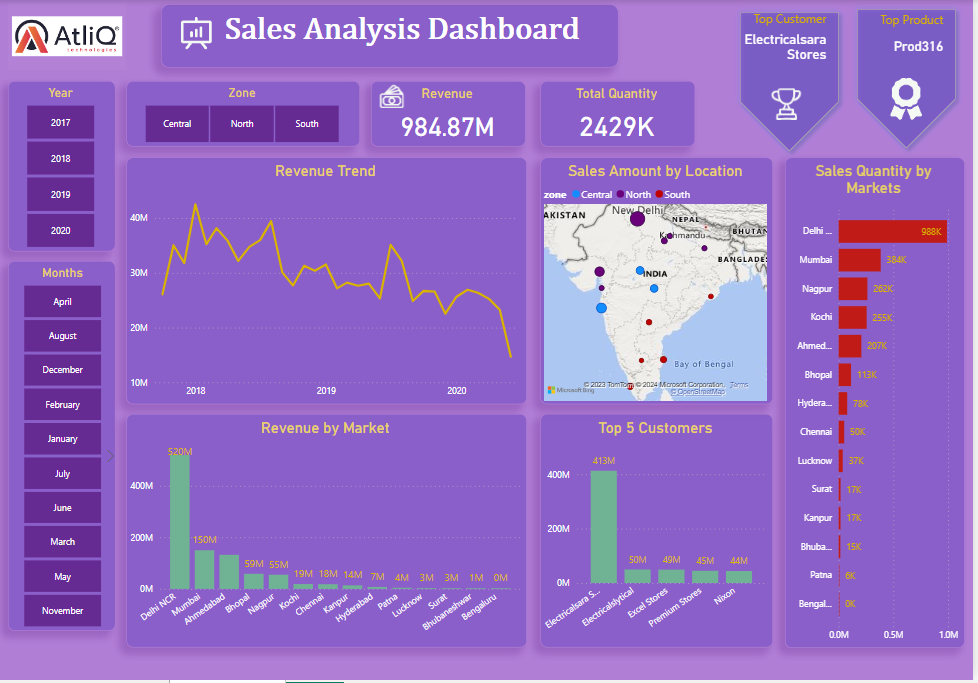

This screenshot's page, from the dashboard's own definition file:
{"tool":"powerbi","page":{"name":"Page 2","canvas":[1320,920],"ordinal":0},"visuals":[{"type":"textbox","box":[220.2,12.4,618.1,78.1],"z":0},{"type":"slicer","title":"Year","fields":{"Values":["sales date.year"]},"box":[12.4,110.1,145.6,230.9],"z":1000},{"type":"slicer","title":"Months","fields":{"Values":["sales date.month_name"]},"box":[12.4,353.4,145.6,500.8],"z":2000},{"type":"slicer","title":"Zone","fields":{"Values":["sales markets.zone"]},"box":[172.3,110.1,316.1,88.8],"z":3000},{"type":"card","title":"Revenue","fields":{"Values":["BaseMeasures (2).Revenue"]},"box":[504.4,110.1,209.6,88.8],"z":4000},{"type":"card","title":"Total Quantity","fields":{"Values":["BaseMeasures (2).Sales Qty"]},"box":[733.5,110.1,209.6,88.8],"z":5000},{"type":"lineChart","title":"Revenue Trend","fields":{"Category":["sales date.cy_date.Variation.Date Hierarchy.Year","sales date.cy_date.Variation.Date Hierarchy.Month"],"Y":["BaseMeasures (2).Revenue"]},"box":[172.3,213.1,541.7,333.9],"z":6000},{"type":"columnChart","title":"Revenue by Market","fields":{"Category":["sales markets.markets_name"],"Y":["BaseMeasures (2).Revenue"]},"box":[172.3,561.2,541.7,316.1],"z":7000},{"type":"columnChart","title":"Top 5 Customers","fields":{"Category":["sales customers.custmer_name"],"Y":["Sum(sales transactions.norm_sales_amount)"]},"box":[733.5,561.2,314.4,316.1],"z":8000},{"type":"map","title":"Sales Amount by Location","fields":{"Category":["sales markets.markets_name"],"Series":["sales markets.zone"],"Size":["Sum(sales transactions.norm_sales_amount)"]},"box":[733.5,213.1,314.4,333.9],"z":9000},{"type":"barChart","title":"Sales Quantity by Markets","fields":{"Category":["sales markets.markets_name"],"Y":["Sum(sales transactions.sales_qty)"]},"box":[1063.9,213.1,243.3,664.2],"z":10000},{"type":"cardVisual","title":"ee","fields":{"Data":["BaseMeasures (2).Top Product"]},"box":[1149.1,0,158.1,213.1],"z":12000},{"type":"cardVisual","title":"ee","fields":{"Data":["BaseMeasures (2).Top Customer"]},"box":[991,3.6,158.1,213.1],"z":13000},{"type":"image","box":[1019.5,90.6,101.2,99.5],"z":14000},{"type":"image","box":[1154.4,76.4,149.2,113.7],"z":15000},{"type":"image","box":[190,5.3,181.2,90.6],"z":15001},{"type":"image","box":[12.4,3.6,159.8,90.6],"z":15002},{"type":"image","box":[488.4,94.1,106.6,94.1],"z":15003}]}

Visuals, with their boxes in screenshot pixels (x1, y1, x2, y2), scaled from the page's 1320x920 canvas onto the 978x683 screenshot:
textbox: l=163, t=9, r=621, b=67
"Year" slicer: l=9, t=82, r=117, b=253
"Months" slicer: l=9, t=262, r=117, b=634
"Zone" slicer: l=128, t=82, r=362, b=148
"Revenue" card: l=374, t=82, r=529, b=148
"Total Quantity" card: l=543, t=82, r=699, b=148
"Revenue Trend" lineChart: l=128, t=158, r=529, b=406
"Revenue by Market" columnChart: l=128, t=417, r=529, b=651
"Top 5 Customers" columnChart: l=543, t=417, r=776, b=651
"Sales Amount by Location" map: l=543, t=158, r=776, b=406
"Sales Quantity by Markets" barChart: l=788, t=158, r=969, b=651
"ee" cardVisual: l=851, t=0, r=969, b=158
"ee" cardVisual: l=734, t=3, r=851, b=161
image: l=755, t=67, r=830, b=141
image: l=855, t=57, r=966, b=141
image: l=141, t=4, r=275, b=71
image: l=9, t=3, r=128, b=70
image: l=362, t=70, r=441, b=140
